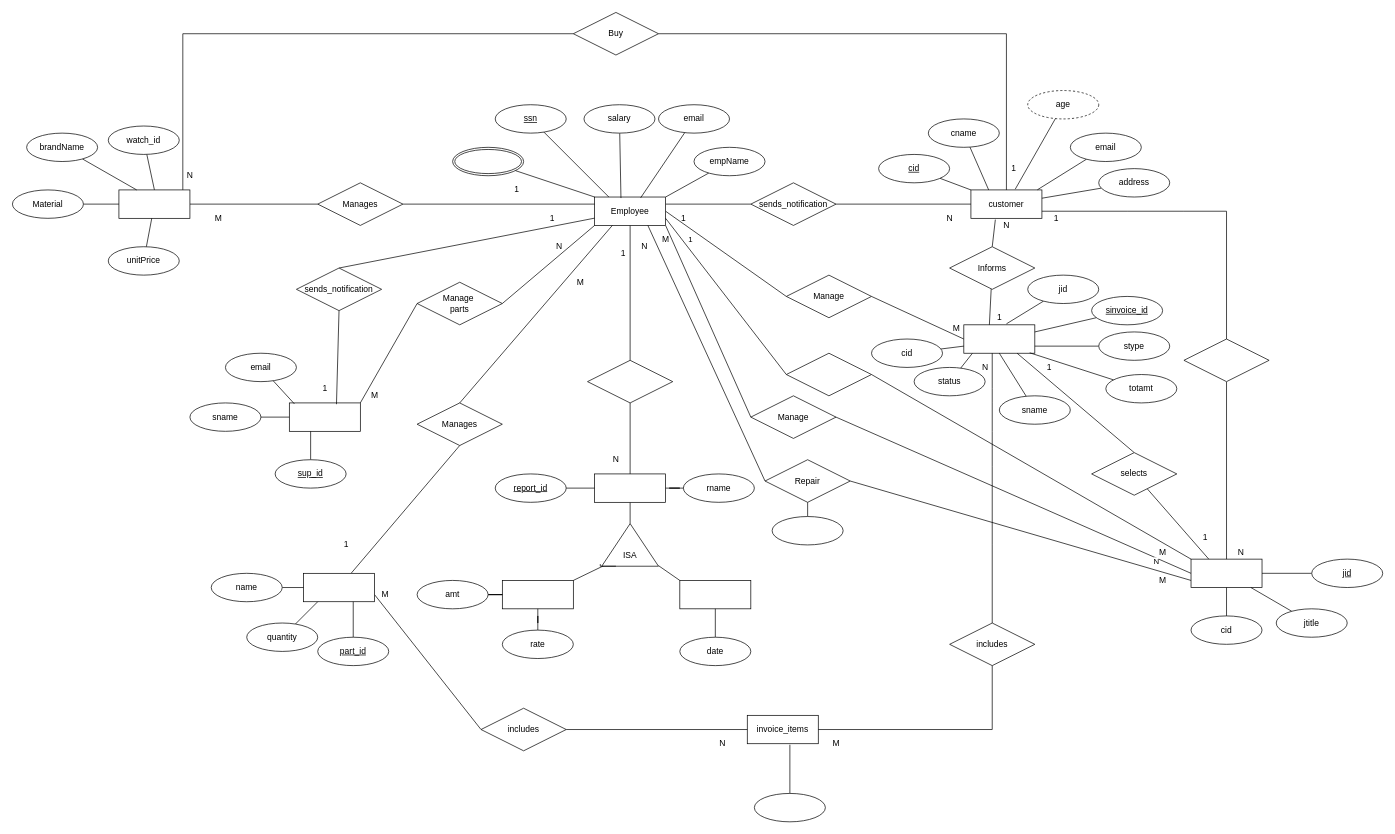
The diagram is 1395 pixels wide and 834 high, and some of its shapes have lost their labels. The centre of each missing label's shape, as x and y in pixels:
"Allocates" belongs at (x=829, y=374).
"Expenses" belongs at (x=537, y=594).
"Generates" belongs at (x=630, y=381).
"Gives" belongs at (x=1226, y=360).
"Income" belongs at (x=715, y=594).
"item_id" belongs at (x=789, y=807).
"Job" belongs at (x=1226, y=573).
"phone" belongs at (x=488, y=161).
"repaired_by" belongs at (x=807, y=530).
"report" belongs at (x=630, y=487).
"sales_invoice" belongs at (x=999, y=338).
"spare_Parts" belongs at (x=339, y=587).
"suppliers" belongs at (x=324, y=416).
"Watch" belongs at (x=154, y=203).
